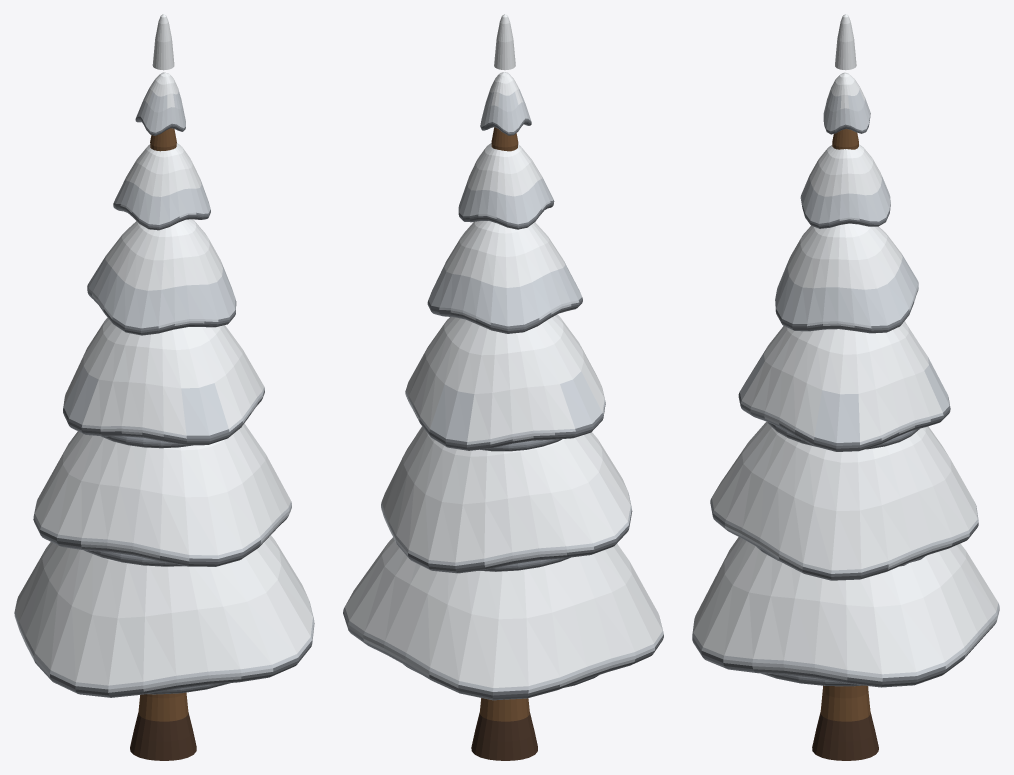
The model's file is SpirePine.obj.
3 views of the same model, side by side, from view 1: azimuth 30°, elevation 25°; view 2: azimuth 150°, elevation 25°; view 3: azimuth 270°, elevation 25° (orthographic).
Size of the model in its own units: 6.21 by 16.35 by 6.21.
